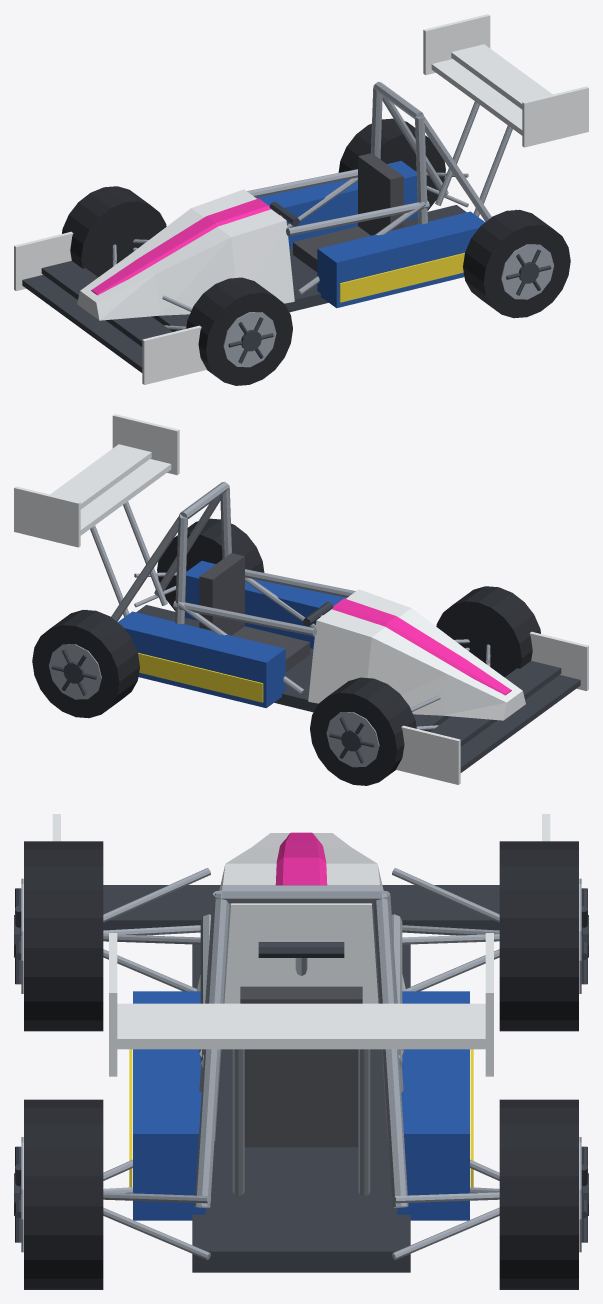
File: fsae-car-a-prototype.glb
3 renders of one model, top to bottom at view 1: azimuth 30°, elevation 25°; view 2: azimuth 150°, elevation 25°; view 3: azimuth 270°, elevation 25°, orthographic. The views are drawn at different scales.
Visible parts, largest first — view 1: tire (×4), nose, sidepod (×2), wing-endplate (×4), wing-element (×4), rim (×2), seat-back, nose-pink-stripe, sidepod-livery, cockpit-side (×2), floor, rear-brace (×2) (+5 smaller); view 2: tire (×4), nose, sidepod (×2), wing-endplate (×4), wing-element (×4), rim (×2), seat-back, nose-pink-stripe, sidepod-livery, cockpit-side (×2), floor, rear-brace (×2) (+5 smaller); view 3: tire (×4), floor, wing-element (×4), sidepod (×2), nose, seat-back, wishbone (×12), rear-brace (×2), rear-wing-mount (×2), roll-hoop-top, wing-endplate (×2), nose-pink-stripe (+3 smaller).
Boxes of the visible parts, bbox=[...] form: tire (×4): bbox=[62, 118, 570, 385]; nose: bbox=[77, 189, 294, 320]; sidepod (×2): bbox=[256, 161, 484, 308]; wing-endplate (×4): bbox=[14, 14, 588, 384]; wing-element (×4): bbox=[22, 44, 552, 372]; rim (×2): bbox=[223, 244, 553, 367]; seat-back: bbox=[358, 153, 403, 235]; nose-pink-stripe: bbox=[91, 198, 270, 295]; sidepod-livery: bbox=[339, 253, 464, 302]; cockpit-side (×2): bbox=[247, 169, 429, 236]; floor: bbox=[152, 205, 466, 331]; rear-brace (×2): bbox=[382, 96, 491, 221]; tire (×4): bbox=[32, 518, 540, 785]; nose: bbox=[308, 589, 525, 720]; sidepod (×2): bbox=[118, 561, 346, 708]; wing-endplate (×4): bbox=[14, 414, 588, 784]; wing-element (×4): bbox=[50, 444, 580, 772]; rim (×2): bbox=[49, 644, 379, 767]; seat-back: bbox=[199, 553, 244, 635]; nose-pink-stripe: bbox=[332, 598, 511, 695]; sidepod-livery: bbox=[138, 653, 263, 702]; cockpit-side (×2): bbox=[173, 569, 355, 636]; floor: bbox=[136, 605, 450, 731]; rear-brace (×2): bbox=[111, 496, 220, 621]; tire (×4): bbox=[24, 841, 578, 1289]; floor: bbox=[192, 944, 410, 1272]; wing-element (×4): bbox=[103, 885, 499, 1049]; sidepod (×2): bbox=[133, 991, 469, 1220]; nose: bbox=[197, 833, 405, 1003]; seat-back: bbox=[240, 986, 362, 1145]; wishbone (×12): bbox=[103, 868, 499, 1259]; rear-brace (×2): bbox=[194, 893, 408, 1207]; rear-wing-mount (×2): bbox=[232, 1049, 370, 1196]; roll-hoop-top: bbox=[222, 885, 380, 903]; wing-endplate (×2): bbox=[109, 933, 493, 1076]; nose-pink-stripe: bbox=[275, 832, 327, 885].
Size of the model in its own units: 3.06 by 1.23 by 1.74.
